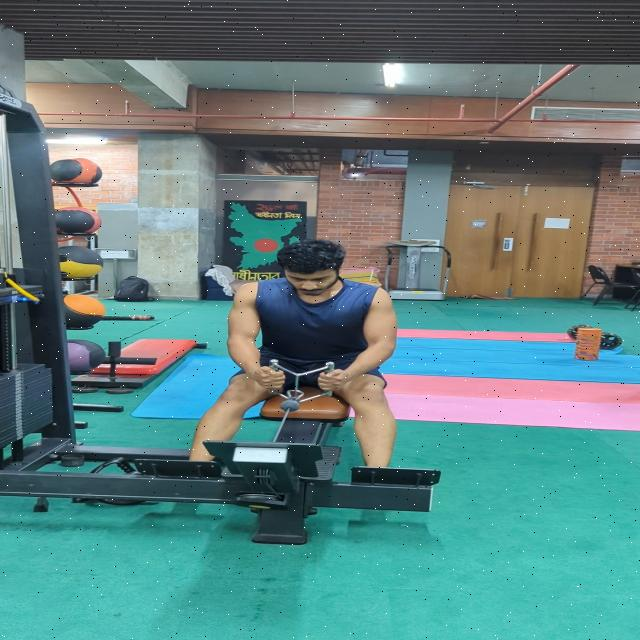Normal_RowingMachineExercise: (184, 240, 401, 472)
